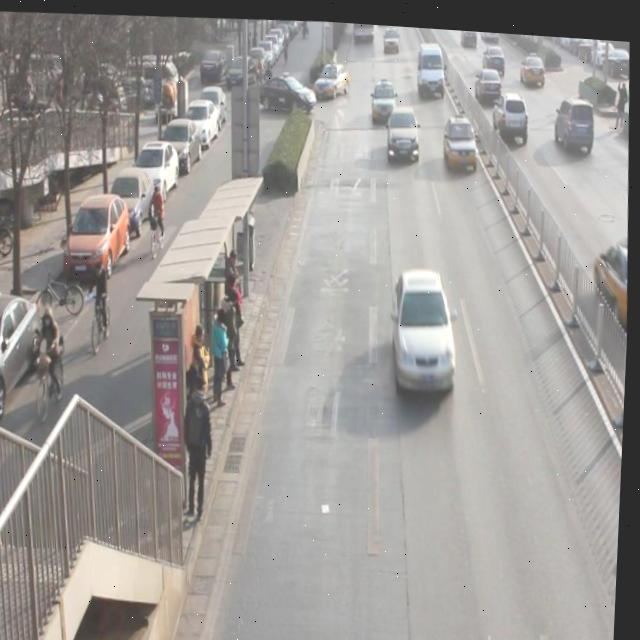car: (388, 262, 466, 389), (594, 227, 632, 322), (549, 91, 598, 150), (442, 106, 481, 171), (492, 81, 532, 143), (387, 106, 423, 160), (372, 72, 398, 121), (320, 54, 350, 96), (520, 41, 548, 81), (475, 61, 502, 95), (482, 37, 508, 70), (380, 20, 403, 55), (459, 24, 476, 42), (482, 25, 500, 36)
truck: (416, 35, 450, 97)
